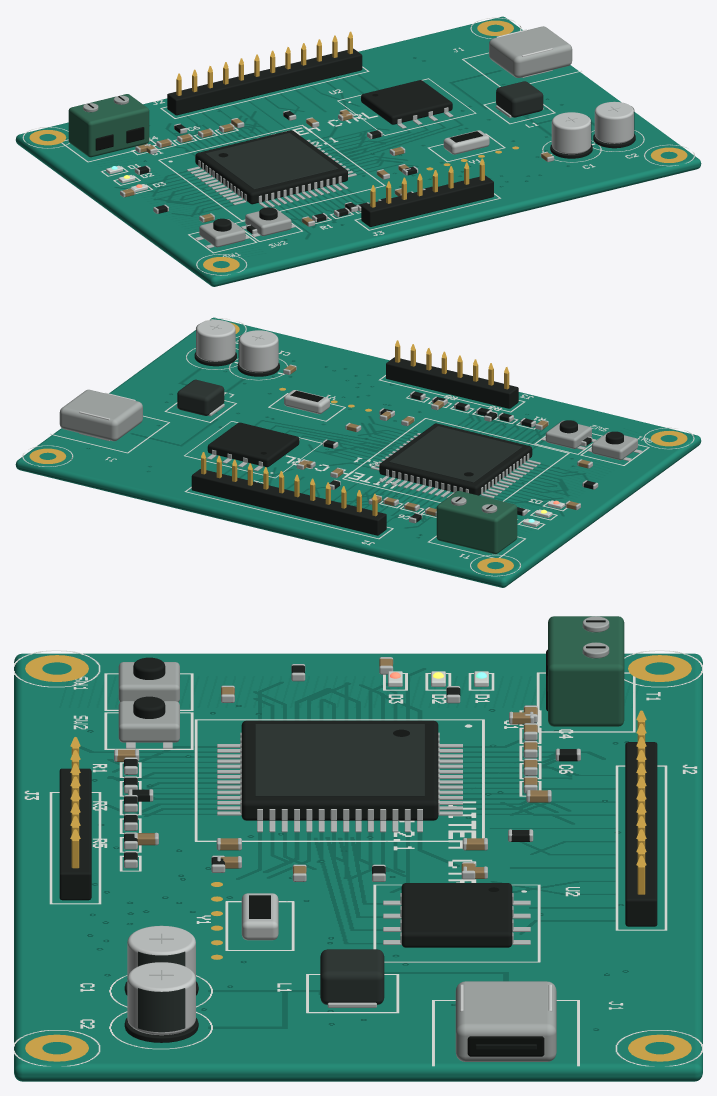
The model's file is custom-electronics.glb.
3 renders of one model, top to bottom at view 1: azimuth 30°, elevation 25°; view 2: azimuth 150°, elevation 25°; view 3: azimuth 270°, elevation 25°, orthographic. The views are drawn at different scales.
Visible parts, largest first — view 1: board, qfp-body, silk, header-12, terminal-2, electrolytic (×2), usb, header-8, soic-body, button (×2), inductor, crystal; view 2: board, qfp-body, silk, header-12, terminal-2, electrolytic (×2), usb, header-8, soic-body, button (×2), inductor, crystal; view 3: board, qfp-body, silk, terminal-2, usb, electrolytic (×2), soic-body, button (×2), header-12, hole (×4), inductor, header-8 (+1 smaller).
Part boxes in pixels (x1,y1,x2,y2): board: [15, 16, 701, 286]; qfp-body: [195, 130, 347, 204]; silk: [22, 17, 694, 275]; header-12: [167, 48, 362, 115]; terminal-2: [68, 94, 149, 157]; electrolytic (×2): [550, 101, 635, 158]; usb: [489, 26, 572, 77]; header-8: [361, 175, 493, 226]; soic-body: [361, 80, 452, 124]; button (×2): [195, 207, 295, 248]; inductor: [495, 81, 543, 117]; crystal: [443, 130, 489, 154]; board: [15, 317, 701, 587]; qfp-body: [379, 423, 532, 495]; silk: [22, 318, 694, 576]; header-12: [191, 469, 386, 535]; terminal-2: [436, 491, 517, 554]; electrolytic (×2): [194, 320, 279, 376]; usb: [59, 389, 142, 441]; header-8: [386, 357, 518, 408]; soic-body: [207, 422, 299, 467]; button (×2): [541, 420, 642, 461]; inductor: [176, 379, 224, 416]; crystal: [284, 390, 329, 414]; board: [14, 653, 702, 1081]; qfp-body: [241, 720, 438, 820]; silk: [14, 650, 702, 1066]; terminal-2: [546, 616, 624, 726]; usb: [455, 981, 556, 1061]; electrolytic (×2): [124, 925, 198, 1042]; soic-body: [401, 883, 512, 947]; button (×2): [118, 657, 179, 748]; header-12: [625, 742, 657, 926]; hole (×4): [25, 655, 691, 1061]; inductor: [320, 949, 384, 1007]; header-8: [59, 768, 91, 900].
Size of the model in its own units: 8 by 0.776 by 5.6.
16 materials, 2 textured.
